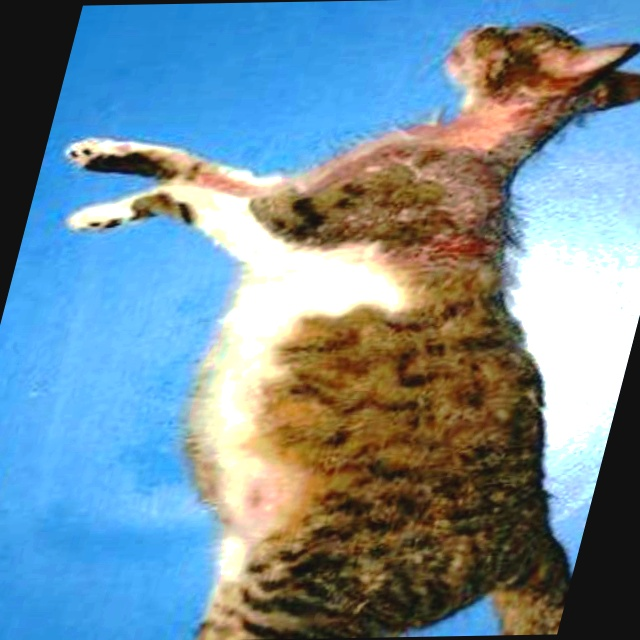hairloss: (155, 249, 408, 563)
